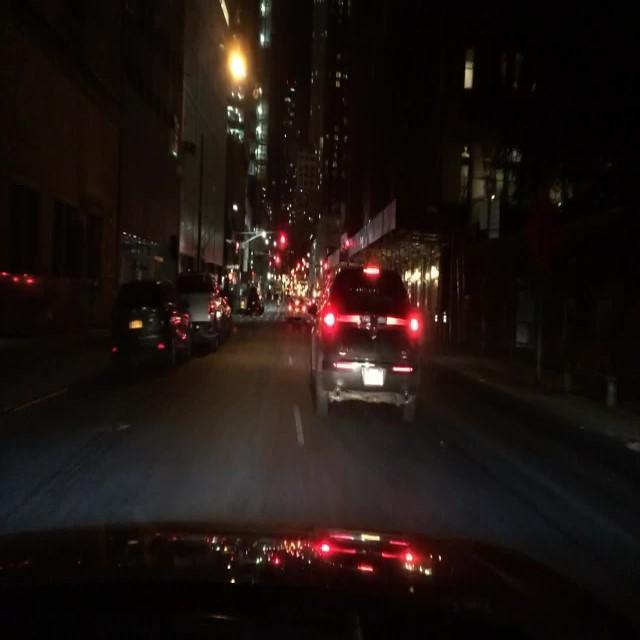normal: (326, 319, 418, 423), (109, 283, 191, 375), (173, 271, 234, 351)
